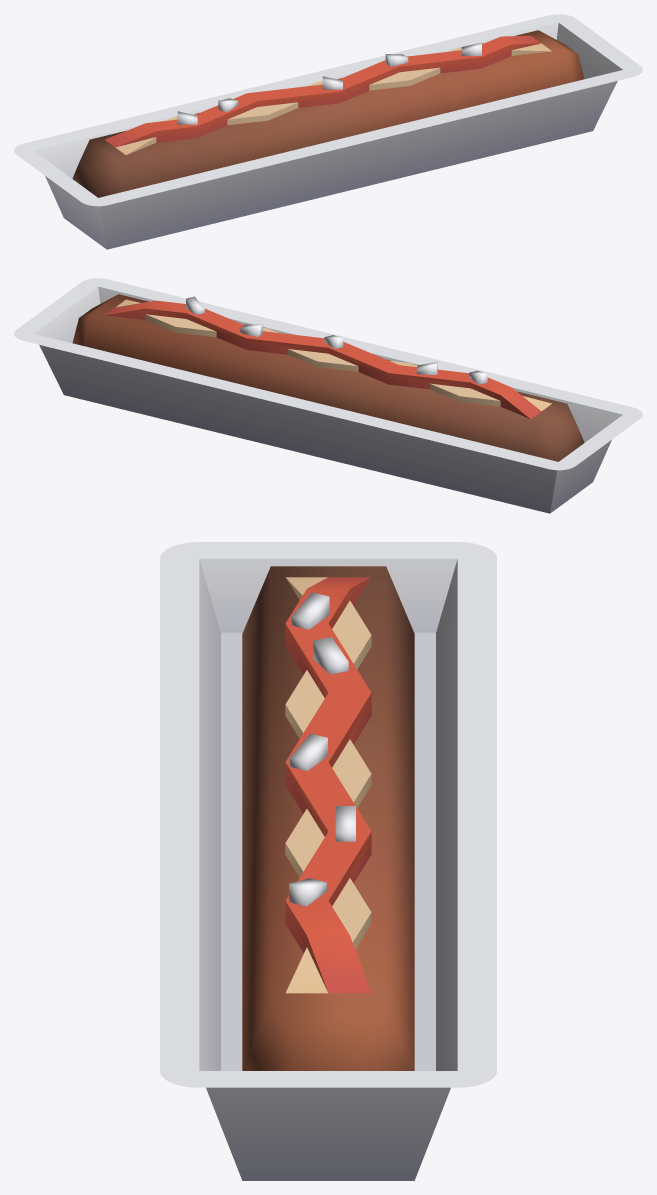
The model's file is frikandel-speciaal.glb.
3 renders of one model, top to bottom at view 1: azimuth 30°, elevation 25°; view 2: azimuth 150°, elevation 25°; view 3: azimuth 270°, elevation 25°, orthographic. The views are drawn at different scales.
Visible parts, largest first — view 1: frikandel-speciaal, frikandel, sauce-onions; view 2: frikandel-speciaal, frikandel, sauce-onions; view 3: frikandel-speciaal, frikandel, sauce-onions.
Part boxes in pixels (box(x1,y1,x2,y2)): frikandel-speciaal: box(14, 14, 642, 249); frikandel: box(72, 30, 584, 197); sauce-onions: box(105, 35, 551, 155); frikandel-speciaal: box(14, 278, 642, 513); frikandel: box(72, 294, 584, 461); sauce-onions: box(105, 296, 551, 419); frikandel-speciaal: box(160, 542, 496, 1180); frikandel: box(242, 566, 414, 1070); sauce-onions: box(285, 577, 371, 993).
Size of the model in its own units: 0.636 by 0.1087 by 0.1661.
Materials: 1 (1 with a texture image).
